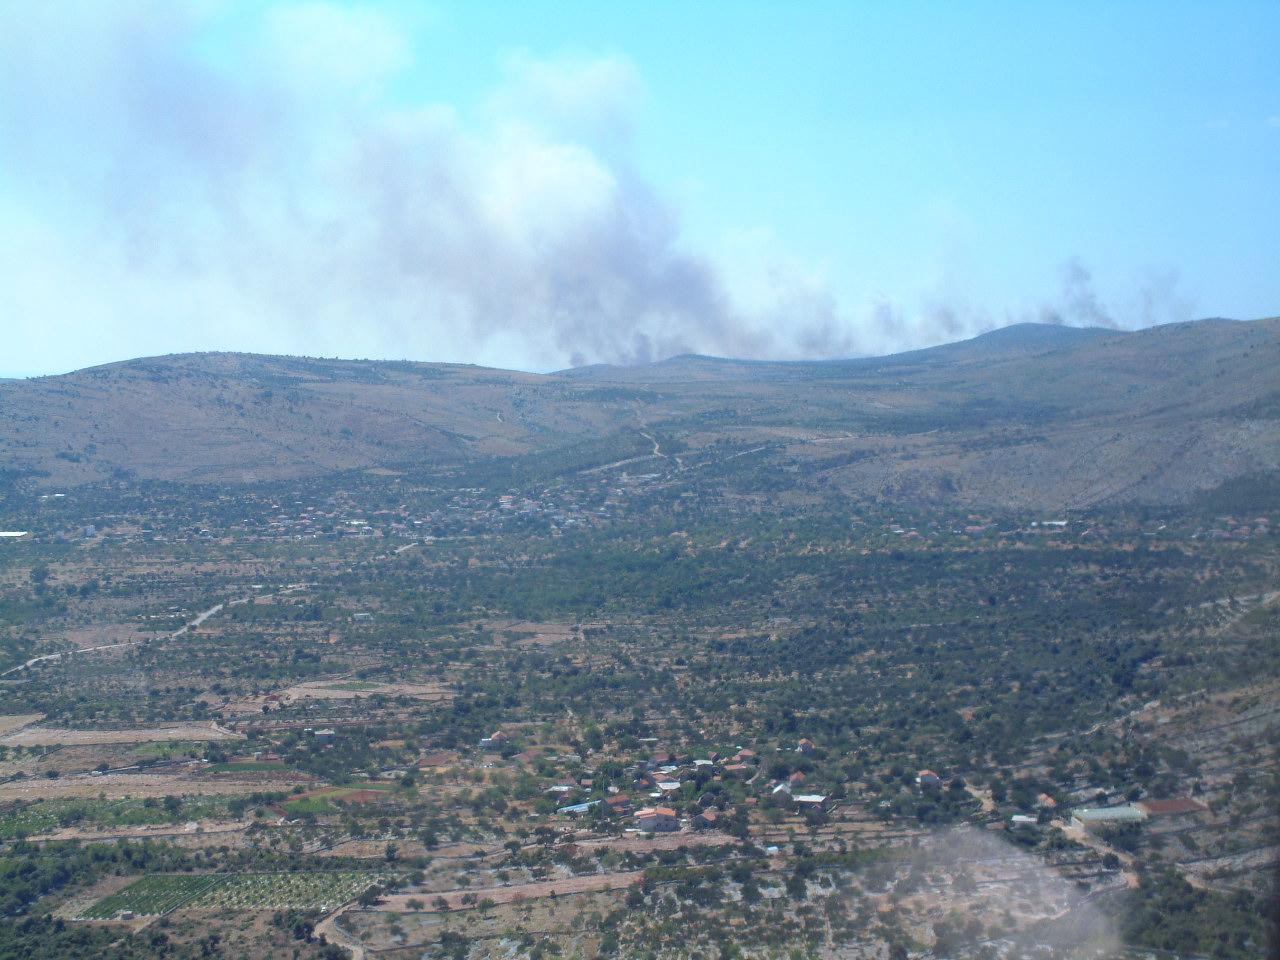Smoke: (2, 4, 777, 360), (784, 230, 1191, 360), (1047, 252, 1135, 332)
